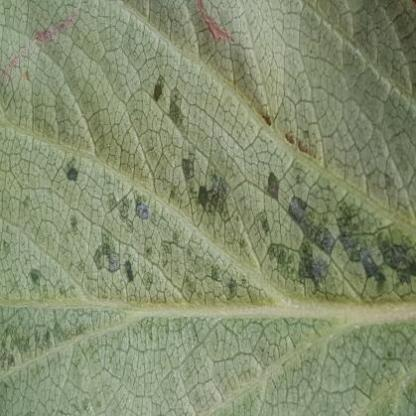Strawberry_Angular_LeafSpot: (0, 75, 415, 374)
